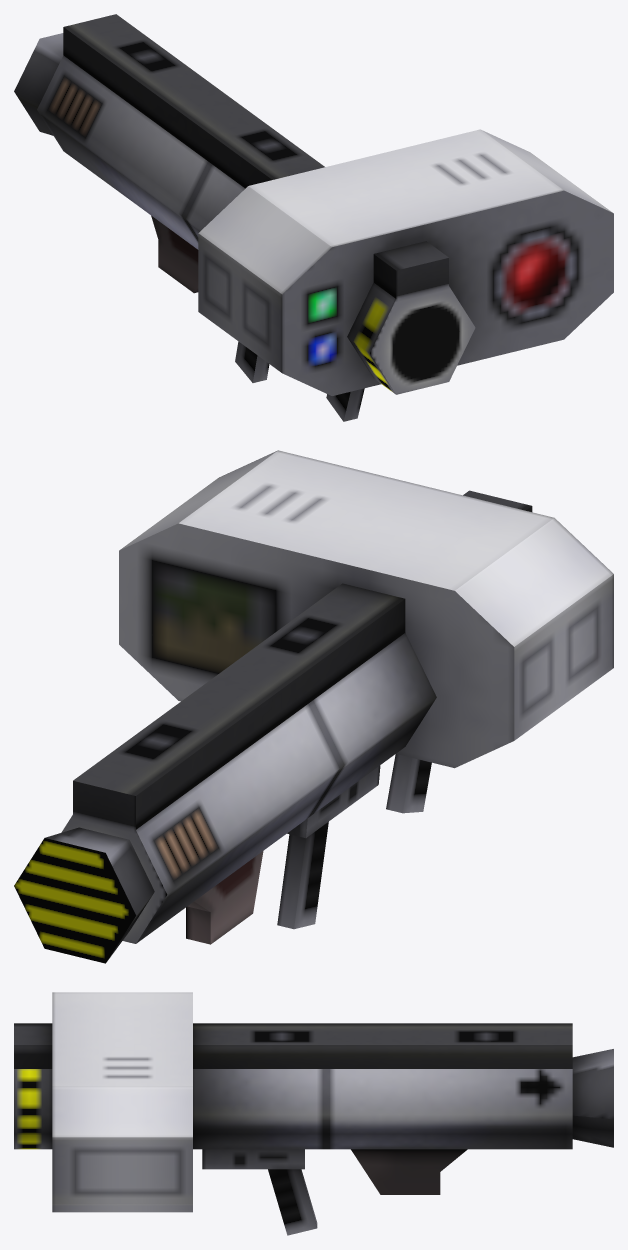
The model's file is Launcher.FBX.
3 renders of one model, top to bottom at view 1: azimuth 30°, elevation 25°; view 2: azimuth 150°, elevation 25°; view 3: azimuth 270°, elevation 25°, orthographic. The views are drawn at different scales.
Parts seen in each view (by area): view 1: MissileLauncher; view 2: MissileLauncher; view 3: MissileLauncher.
Part boxes in pixels (bbox=[...]): MissileLauncher: bbox=[14, 14, 613, 421]; MissileLauncher: bbox=[14, 450, 613, 963]; MissileLauncher: bbox=[14, 992, 613, 1235].
Size of the model in its own units: 66.78 by 48.74 by 125.
